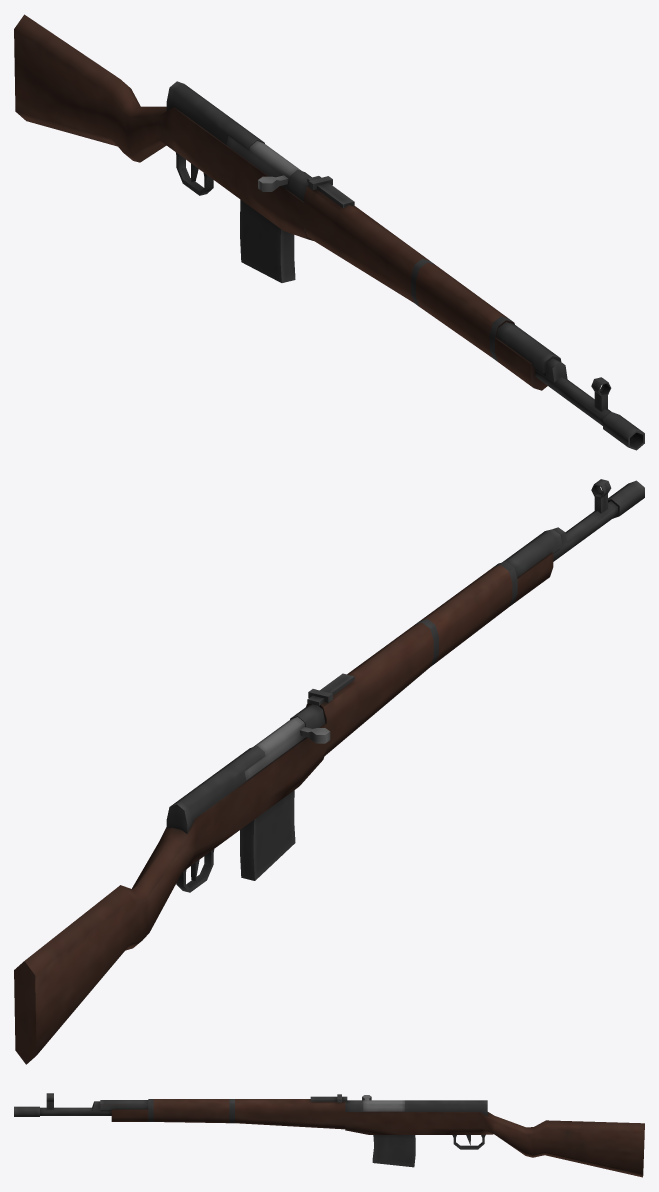
File: SVT38.fbx
3 views of the same model, one above another, from view 1: azimuth 30°, elevation 25°; view 2: azimuth 150°, elevation 25°; view 3: azimuth 270°, elevation 25° (orthographic). The views are drawn at different scales.
Parts seen in each view (by area): view 1: SVT38; view 2: SVT38; view 3: SVT38.
Part boxes in pixels (bbox=[...]): SVT38: bbox=[14, 14, 644, 450]; SVT38: bbox=[14, 479, 644, 1064]; SVT38: bbox=[14, 1093, 644, 1177].
Size of the model in its own units: 5.16 by 17.46 by 120.
1 material, 1 textured.
